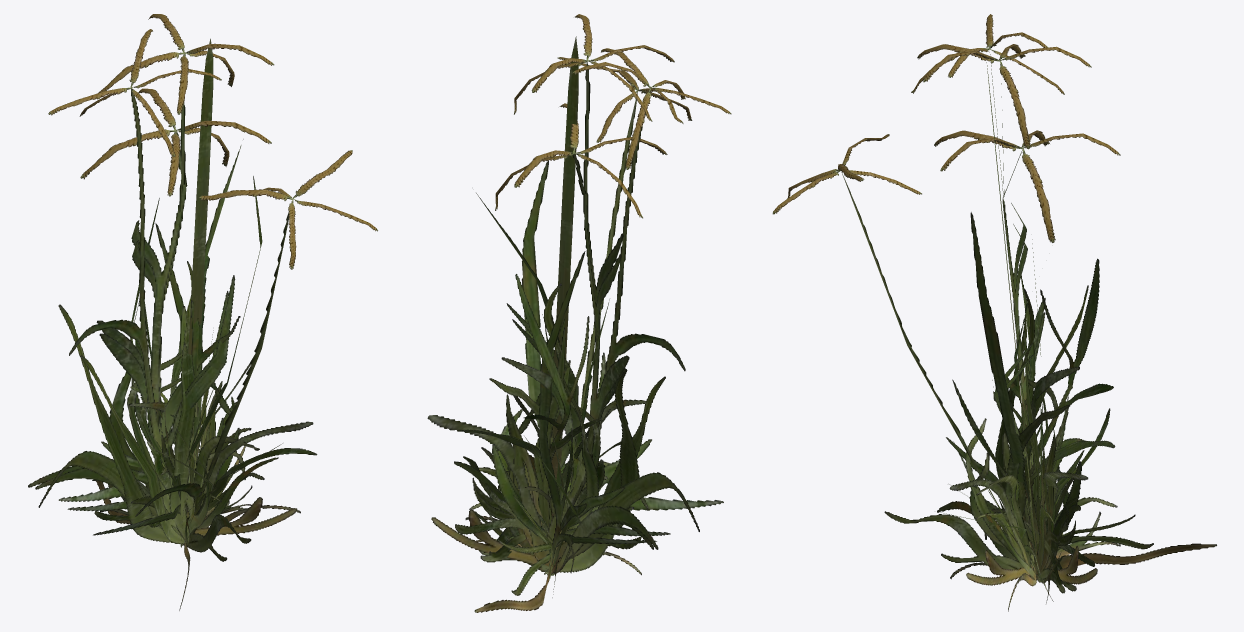
Rendered from ph-grass_bermuda_01-lod.glb.
3 renders of one model, left to right at view 1: azimuth 30°, elevation 25°; view 2: azimuth 150°, elevation 25°; view 3: azimuth 270°, elevation 25°, orthographic.
Visible parts, largest first — view 1: seedling_d, seedling_a, seedling_b, medium_b, medium_c, small_c, small_e, single_b, medium_e, medium_f, medium_d, medium_a (+1 smaller); view 2: seedling_a, seedling_b, seedling_d, medium_b, medium_a, medium_c, medium_d, single_a, small_c, medium_e, small_f, medium_f (+2 smaller); view 3: seedling_d, medium_c, seedling_a, seedling_b, small_c, medium_a, medium_b, medium_f, small_e, medium_e, medium_d, small_f.
Boxes of the visible parts, x1,y1,x2,y2 form: seedling_d: (35, 14, 377, 536); seedling_a: (38, 29, 262, 547); seedling_b: (28, 88, 271, 543); medium_b: (58, 304, 208, 542); medium_c: (80, 343, 251, 561); small_c: (92, 371, 300, 544); small_e: (161, 261, 213, 545); single_b: (188, 38, 213, 354); medium_e: (67, 300, 317, 610); medium_f: (144, 139, 251, 544); medium_d: (58, 223, 223, 501); medium_a: (130, 198, 234, 496); seedling_a: (492, 48, 731, 575); seedling_b: (427, 103, 667, 573); seedling_d: (512, 14, 692, 572); medium_b: (473, 327, 641, 572); medium_a: (455, 274, 604, 561); medium_c: (472, 360, 665, 612); medium_d: (495, 251, 656, 564); single_a: (554, 36, 578, 372); small_c: (454, 423, 580, 597); medium_e: (469, 317, 670, 575); small_f: (501, 357, 646, 574); medium_f: (476, 193, 610, 573); seedling_d: (772, 44, 1091, 585); medium_c: (884, 312, 1216, 593); seedling_a: (911, 14, 1081, 580); seedling_b: (934, 130, 1120, 584); small_c: (969, 407, 1120, 611); medium_a: (1023, 258, 1115, 566); medium_b: (1018, 285, 1088, 591); medium_f: (975, 275, 1063, 573); small_e: (1005, 288, 1070, 576); medium_e: (937, 331, 1053, 601); medium_d: (1032, 239, 1084, 542); small_f: (992, 366, 1079, 510).
Bounding box in the file's own units: 0.082 × 0.1589 × 0.1182.
1 material, 1 textured.
